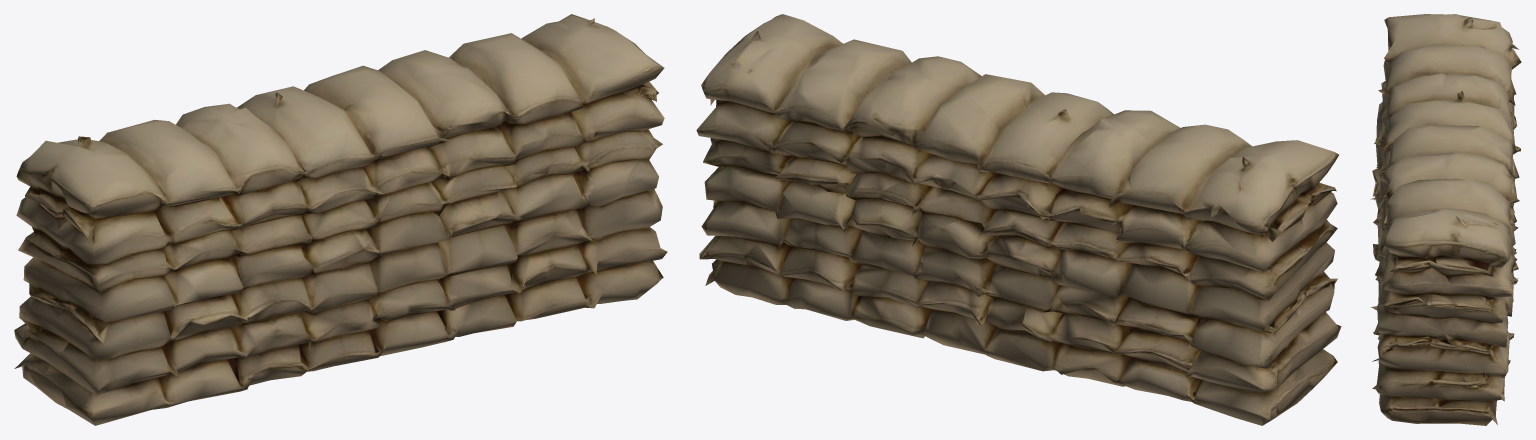
File: sandbags.glb
The picture shows the model from 3 angles, left to right: view 1: azimuth 30°, elevation 25°; view 2: azimuth 150°, elevation 25°; view 3: azimuth 270°, elevation 25°; orthographic projection. The views are drawn at different scales.
Visible parts, largest first — view 1: tripo_node_533fb0bf-4b16-41dd-911b-38fc2435f983; view 2: tripo_node_533fb0bf-4b16-41dd-911b-38fc2435f983; view 3: tripo_node_533fb0bf-4b16-41dd-911b-38fc2435f983.
Boxes of the visible parts, box(x1,y1,x2,y2) form: tripo_node_533fb0bf-4b16-41dd-911b-38fc2435f983: box(14, 14, 667, 425); tripo_node_533fb0bf-4b16-41dd-911b-38fc2435f983: box(696, 14, 1341, 425); tripo_node_533fb0bf-4b16-41dd-911b-38fc2435f983: box(1370, 14, 1521, 425).
Bounding box in the file's own units: 1 × 0.4187 × 0.2784.
Materials: 1 (1 with a texture image).
